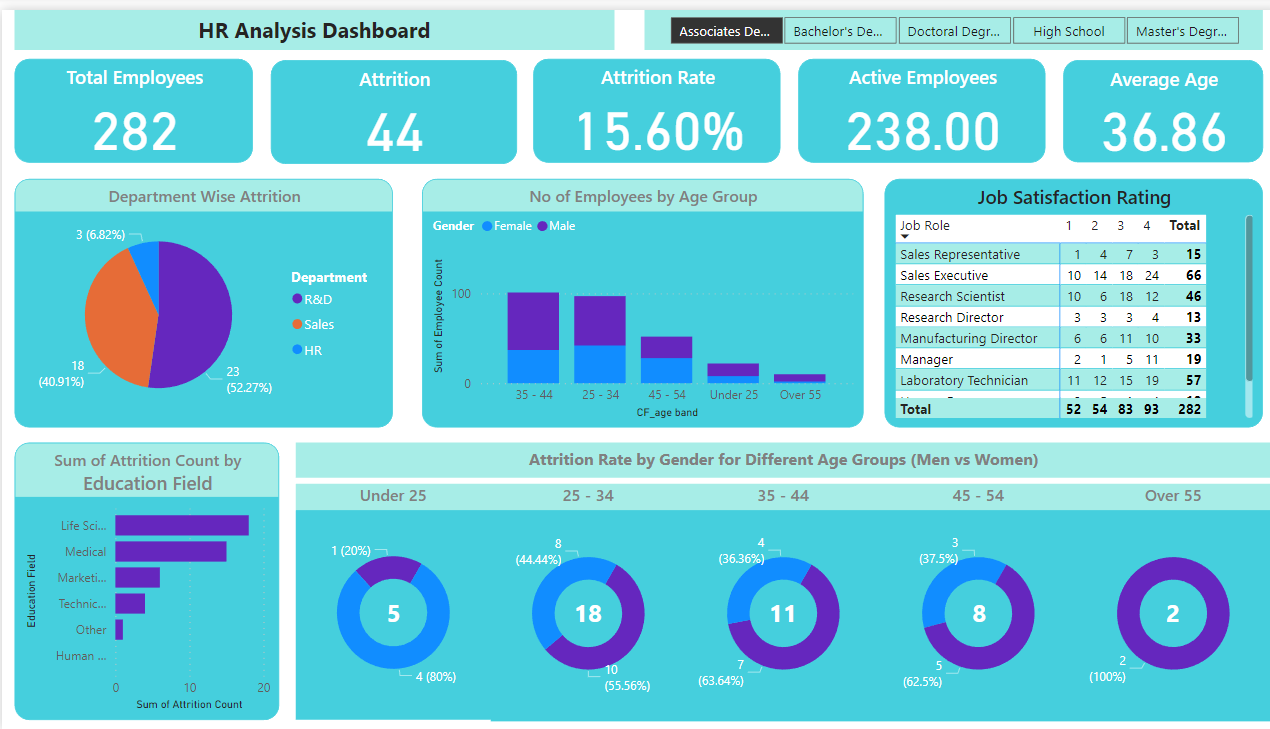

What the dashboard file says about the page in this screenshot:
{"tool":"powerbi","page":{"name":"Page 1","canvas":[1280,720],"ordinal":0},"visuals":[{"type":"card","title":"Attrition","fields":{"Values":["Sum(HR data.Attrition Count)"]},"box":[268.4,50,246.2,103.8],"z":0},{"type":"card","title":"Total Employees","fields":{"Values":["Sum(HR data.Employee Count)"]},"box":[12.5,48.8,238.8,103.8],"z":1000},{"type":"card","title":"Attrition Rate","fields":{"Values":["HR data.Attrition Rate"]},"box":[531.9,48.8,247.5,103.8],"z":2000},{"type":"card","title":"Active Employees","fields":{"Values":["HR data.Active Employees"]},"box":[796.6,48.8,247.5,103.8],"z":3000},{"type":"card","title":"Average Age","fields":{"Values":["Avg(HR data.Age)"]},"box":[1061.2,49.6,200,102.5],"z":4000},{"type":"pieChart","title":"Department Wise Attrition","fields":{"Category":["HR data.Department"],"Y":["Sum(HR data.Attrition Count)"]},"box":[12.5,168.8,378.8,248.8],"z":5000},{"type":"columnChart","title":"No of Employees by Age Group","fields":{"Category":["HR data.CF_age band"],"Y":["Sum(HR data.Employee Count)"],"Series":["HR data.Gender"]},"box":[420,168.8,441.2,248.8],"z":6000},{"type":"pivotTable","title":"Job Satisfaction Rating","fields":{"Rows":["HR data.Job Role"],"Columns":["HR data.Job Satisfaction"],"Values":["Sum(HR data.Employee Count)"]},"box":[882.5,168.8,378.8,248.8],"z":7000},{"type":"barChart","fields":{"Category":["HR data.Education Field"],"Y":["Sum(HR data.Attrition Count)"]},"box":[12.5,432.5,265,277.5],"z":8000},{"type":"donutChart","title":"Under 25","fields":{"Category":["HR data.Gender"],"Y":["Sum(HR data.Attrition Count)"],"Series":["HR data.CF_age band"]},"box":[293.8,473.8,195,236.2],"z":9000},{"type":"textbox","box":[293.8,432.5,976.2,35],"z":10000},{"type":"donutChart","title":"25 - 34","fields":{"Category":["HR data.Gender"],"Y":["Sum(HR data.Attrition Count)"],"Series":["HR data.CF_age band"]},"box":[488.8,473.8,195,237.5],"z":11000},{"type":"donutChart","title":"35 - 44","fields":{"Category":["HR data.Gender"],"Y":["Sum(HR data.Attrition Count)"],"Series":["HR data.CF_age band"]},"box":[683.8,473.8,195,237.5],"z":12000},{"type":"donutChart","title":"45 - 54","fields":{"Category":["HR data.Gender"],"Y":["Sum(HR data.Attrition Count)"],"Series":["HR data.CF_age band"]},"box":[878.8,473.8,195,237.5],"z":13000},{"type":"donutChart","title":"Over 55","fields":{"Category":["HR data.Gender"],"Y":["Sum(HR data.Attrition Count)"],"Series":["HR data.CF_age band"]},"box":[1073.8,473.8,195,237.5],"z":14000},{"type":"textbox","box":[12.5,0,600,40],"z":15000},{"type":"card","fields":{"Values":["Sum(HR data.Attrition Count)"]},"box":[371.4,583.6,40.7,40],"z":16000},{"type":"card","fields":{"Values":["Sum(HR data.Attrition Count)"]},"box":[560,583.3,52,40],"z":17000},{"type":"card","fields":{"Values":["Sum(HR data.Attrition Count)"]},"box":[755.5,583.6,51.8,40],"z":17001},{"type":"card","fields":{"Values":["Sum(HR data.Attrition Count)"]},"box":[950.9,583.6,51.8,40],"z":17002},{"type":"card","fields":{"Values":["Sum(HR data.Attrition Count)"]},"box":[1145.5,583.6,51.8,40],"z":17003},{"type":"slicer","fields":{"Values":["HR data.Education"]},"box":[642.5,0,618.8,40],"z":17004}]}

Visuals, with their boxes in screenshot pixels (x1, y1, x2, y2), scaled from the page's 1280x720 canvas onto the 1270x729 screenshot:
"Attrition" card: {"left": 266, "top": 51, "right": 511, "bottom": 156}
"Total Employees" card: {"left": 12, "top": 49, "right": 249, "bottom": 155}
"Attrition Rate" card: {"left": 528, "top": 49, "right": 773, "bottom": 155}
"Active Employees" card: {"left": 790, "top": 49, "right": 1036, "bottom": 155}
"Average Age" card: {"left": 1053, "top": 50, "right": 1251, "bottom": 154}
"Department Wise Attrition" pieChart: {"left": 12, "top": 171, "right": 388, "bottom": 423}
"No of Employees by Age Group" columnChart: {"left": 417, "top": 171, "right": 854, "bottom": 423}
"Job Satisfaction Rating" pivotTable: {"left": 876, "top": 171, "right": 1251, "bottom": 423}
barChart - HR data.Education Field x Sum(HR data.Attrition Count): {"left": 12, "top": 438, "right": 275, "bottom": 719}
"Under 25" donutChart: {"left": 292, "top": 480, "right": 485, "bottom": 719}
textbox: {"left": 292, "top": 438, "right": 1260, "bottom": 473}
"25 - 34" donutChart: {"left": 485, "top": 480, "right": 678, "bottom": 720}
"35 - 44" donutChart: {"left": 678, "top": 480, "right": 872, "bottom": 720}
"45 - 54" donutChart: {"left": 872, "top": 480, "right": 1065, "bottom": 720}
"Over 55" donutChart: {"left": 1065, "top": 480, "right": 1259, "bottom": 720}
textbox: {"left": 12, "top": 0, "right": 608, "bottom": 40}
card - Sum(HR data.Attrition Count): {"left": 368, "top": 591, "right": 409, "bottom": 631}
card - Sum(HR data.Attrition Count): {"left": 556, "top": 591, "right": 607, "bottom": 631}
card - Sum(HR data.Attrition Count): {"left": 750, "top": 591, "right": 801, "bottom": 631}
card - Sum(HR data.Attrition Count): {"left": 943, "top": 591, "right": 995, "bottom": 631}
card - Sum(HR data.Attrition Count): {"left": 1137, "top": 591, "right": 1188, "bottom": 631}
slicer - HR data.Education: {"left": 637, "top": 0, "right": 1251, "bottom": 40}
